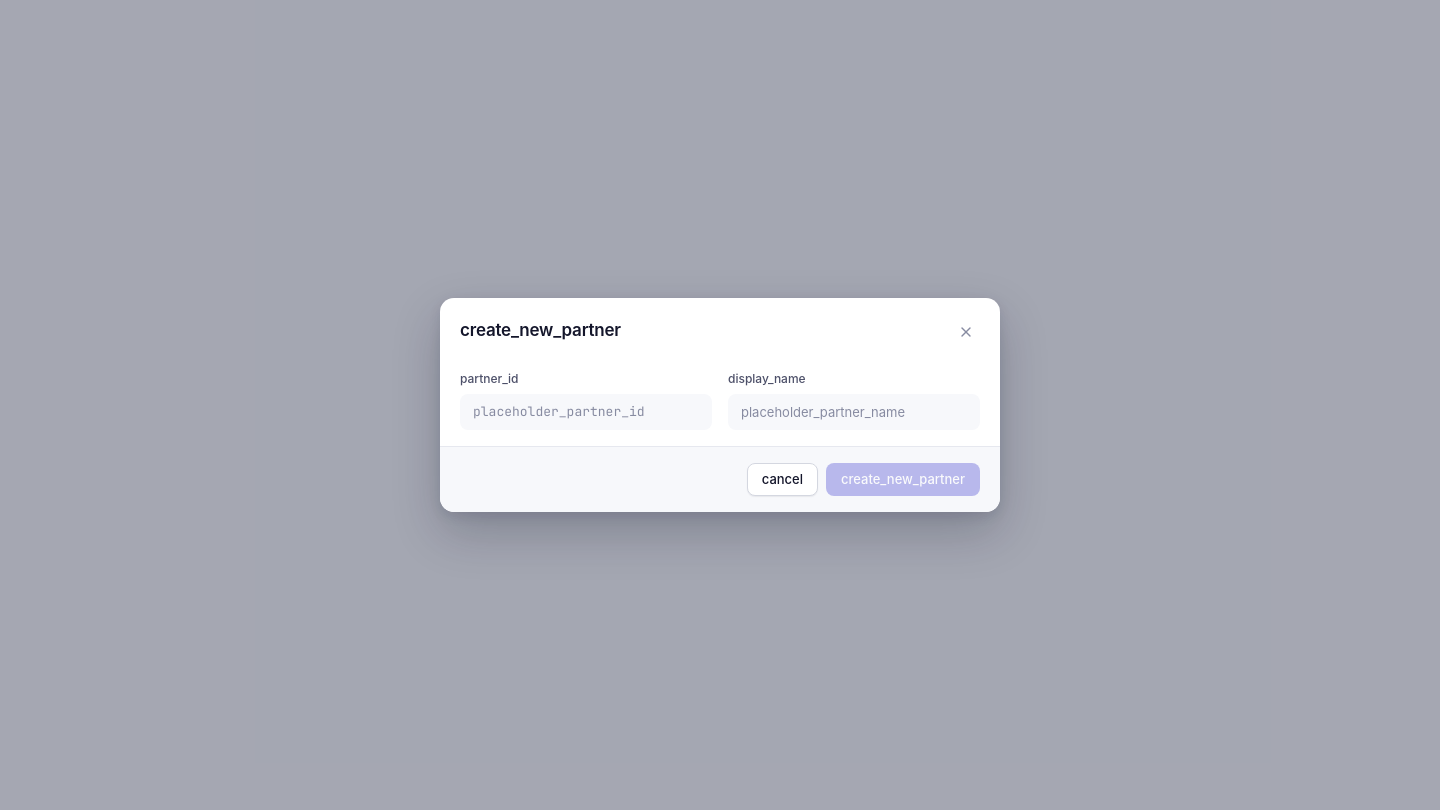
Test: CreatePartnerModal › sanitizes partner id to lowercase alphanumeric with dashes
In the field with placeholder "placeholder_partner_id": coordinates (586, 412) [460,394,712,430], type "My Partner ID!"
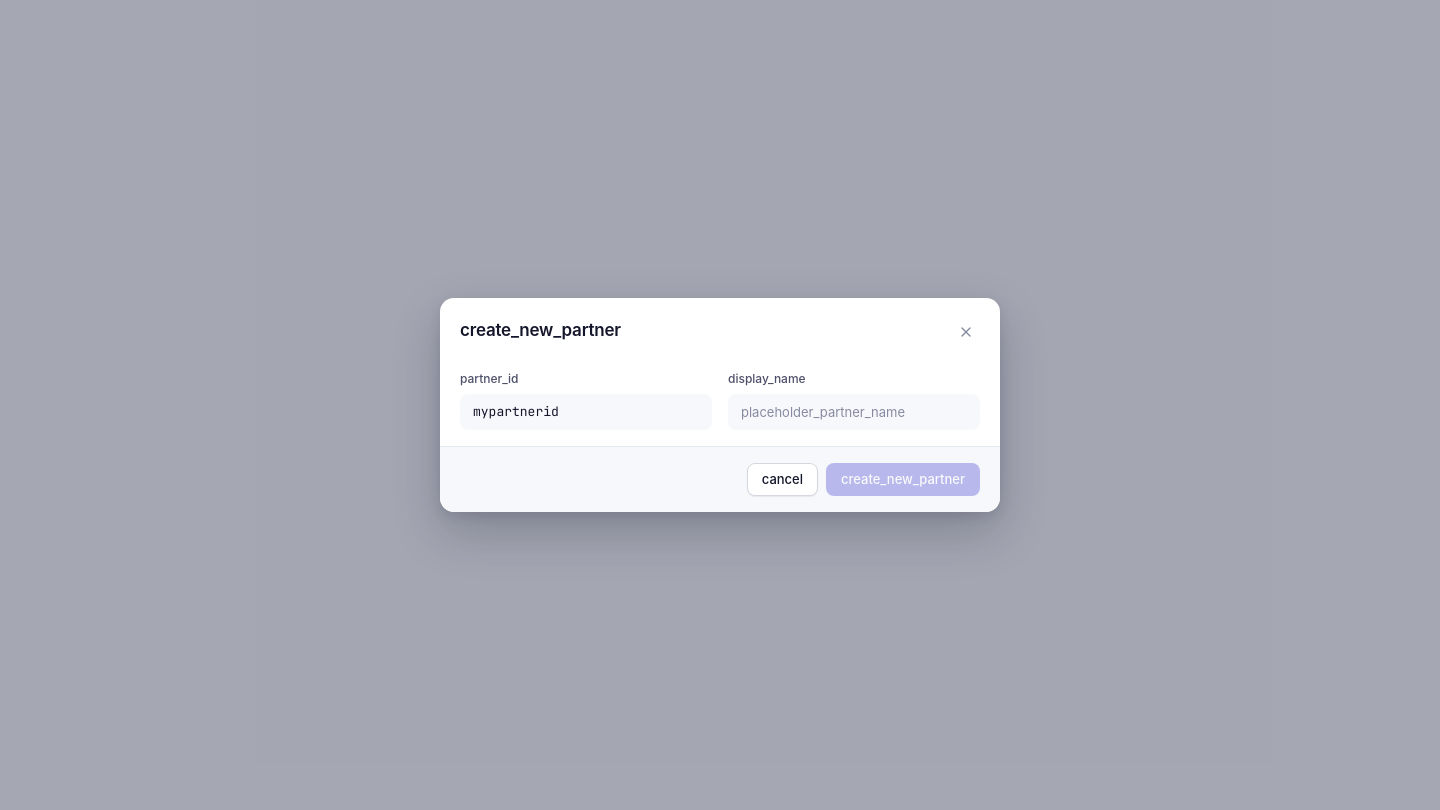
expect the field with placeholder "placeholder_partner_id" holds "mypartnerid": met, box [460,394,712,430]
